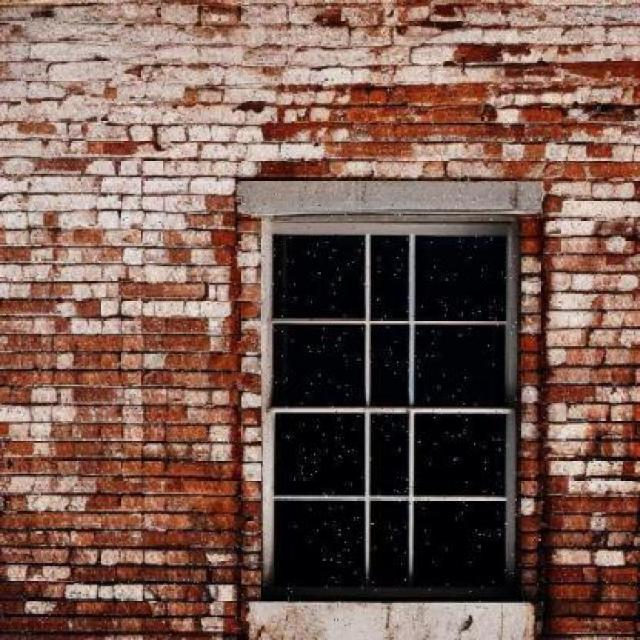window: (262, 218, 520, 600)
